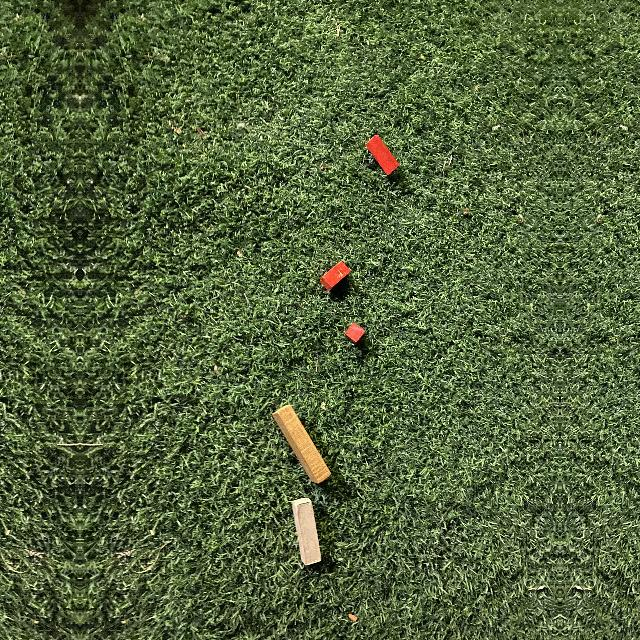block: (292, 503, 321, 566)
jenga: (272, 405, 331, 484)
red block: (366, 135, 400, 175), (320, 261, 351, 292)
red cube: (344, 323, 366, 349)
